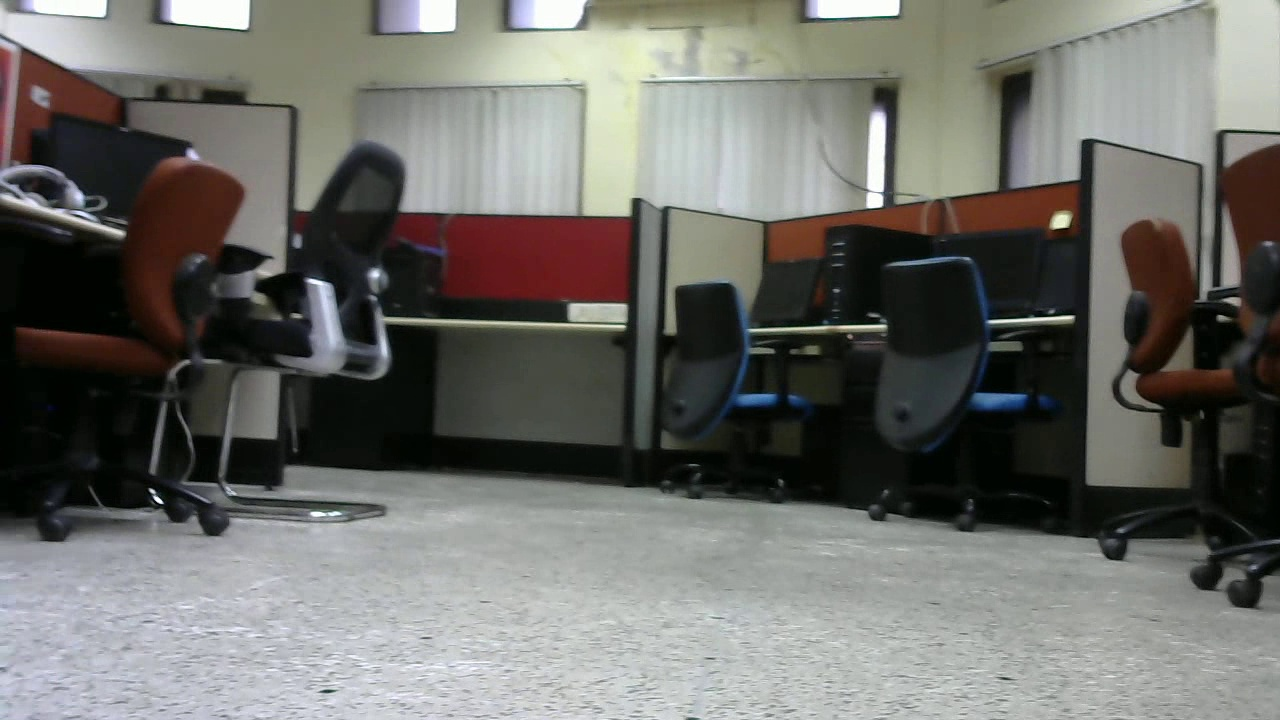chair: (13, 151, 232, 542), (248, 141, 406, 525), (1095, 218, 1265, 571), (866, 255, 1065, 541), (651, 282, 817, 497)
